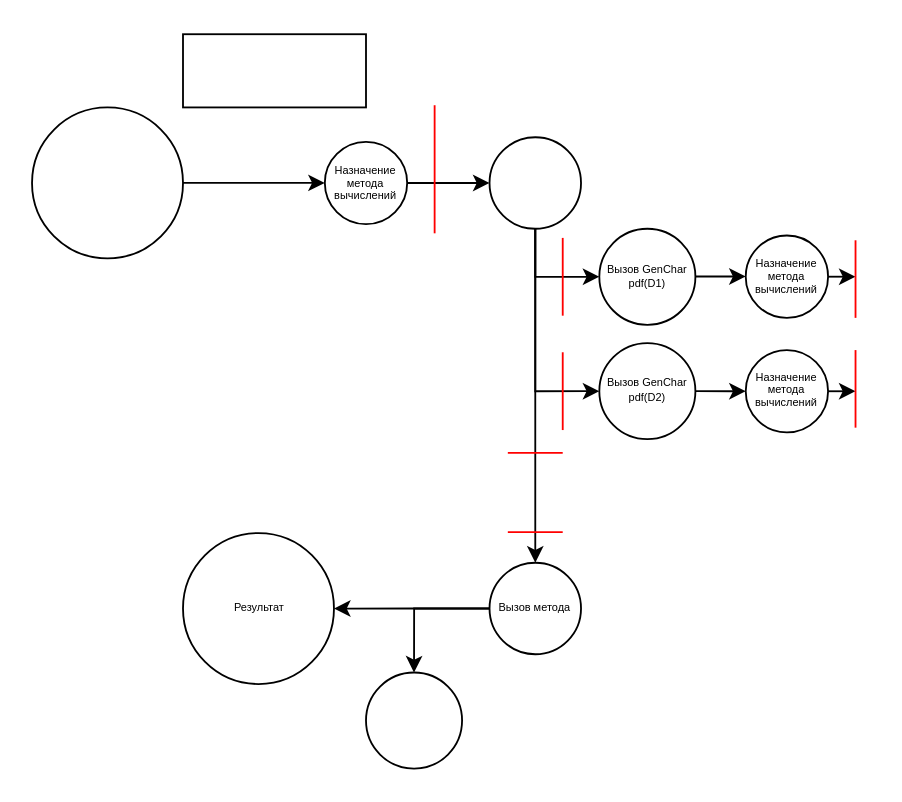
This 902x802 diagram has some shape labels left out. The shapes that lost their labels are listed below. From the top down, each one's centre as x and y in pixels, then its label:
the point at 273,69: Сообщить handler-у что такой вызов произошел и получить ComputationMethod
the point at 106,182: Вызов GenChar pdf(D)
the point at 534,182: Инициализация метода
the point at 413,720: Вызов GenChar
